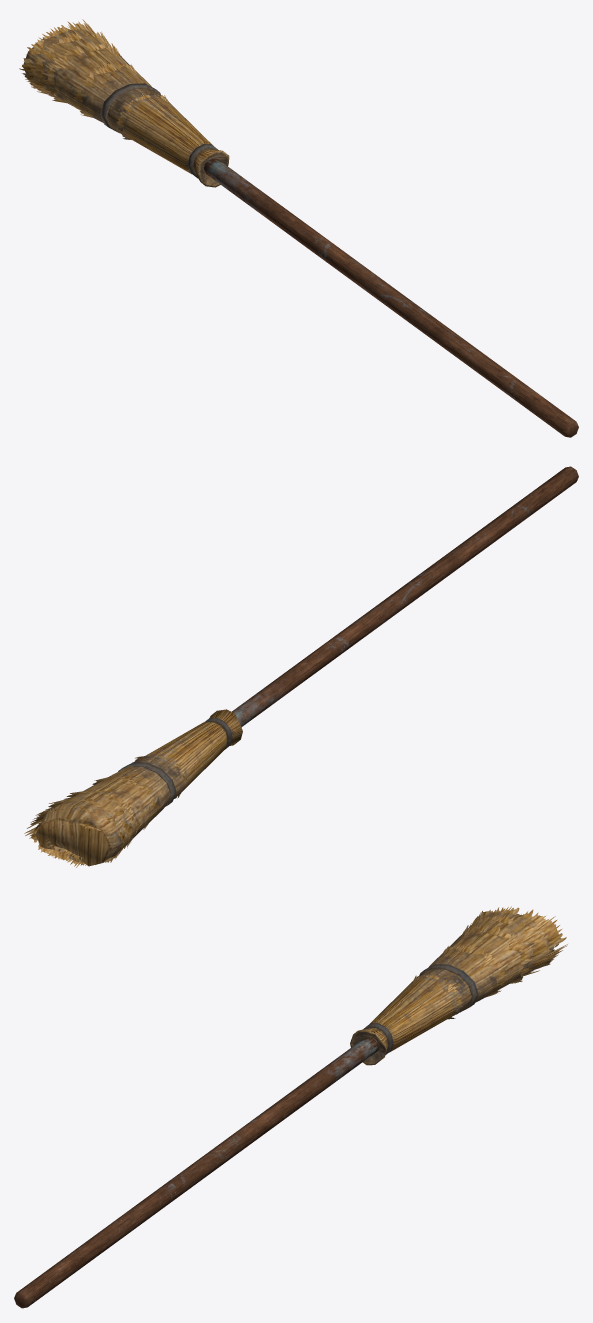
Rendered from atom-rpg-low-poly-broom-2661b1.glb.
3 renders of one model, top to bottom at view 1: azimuth 30°, elevation 25°; view 2: azimuth 150°, elevation 25°; view 3: azimuth 330°, elevation 25°, orthographic. The views are drawn at different scales.
Visible parts, largest first — view 1: PropMesh; view 2: PropMesh; view 3: PropMesh.
Boxes of the visible parts, left/top/right/bottom form: PropMesh: left=19, top=19, right=578, bottom=437; PropMesh: left=24, top=466, right=578, bottom=867; PropMesh: left=14, top=906, right=567, bottom=1308.
Bounding box in the file's own units: 3.35 × 2.2 × 31.5.
Materials: 1 (1 with a texture image).
